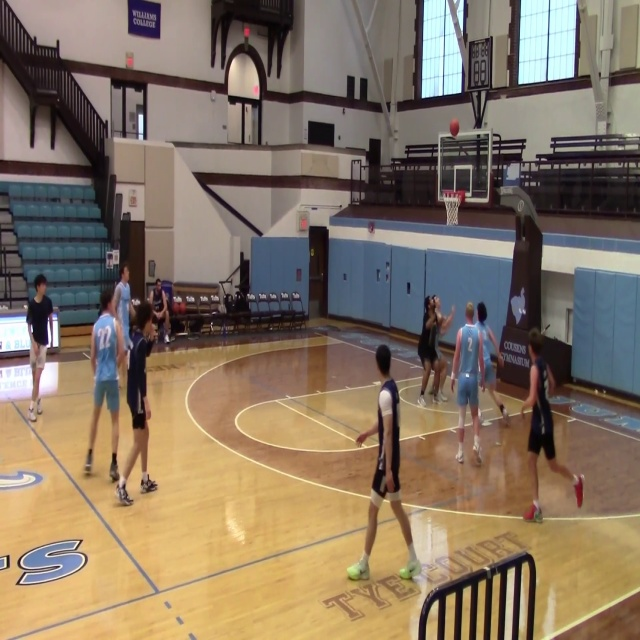Basketball: (449, 119, 459, 137), (399, 568, 411, 579)
